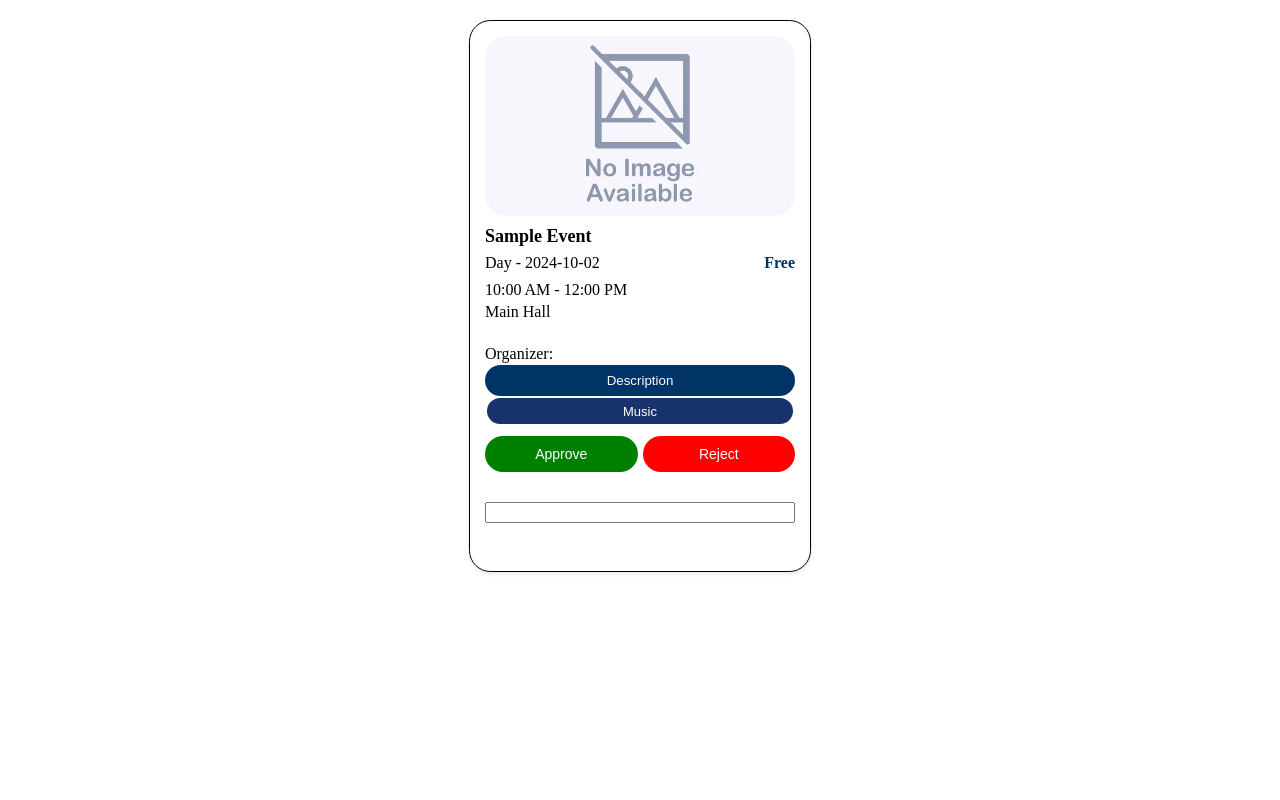
Scenario: EventCard Component › opens the description popup when the description button is clicked
Click the button "Description" at (640, 380), box [485,365,795,396]
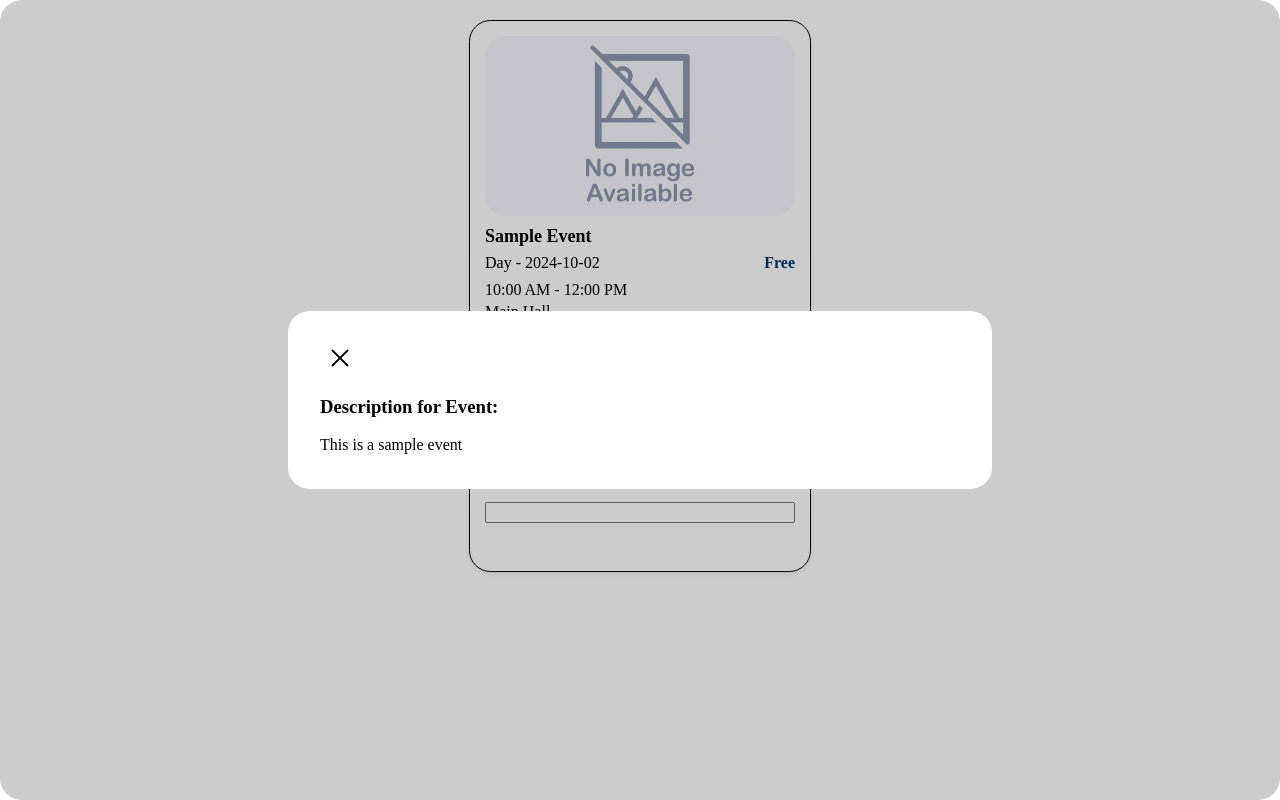
Result: the text "This is a sample event" is shown at [320,436,462,453]
